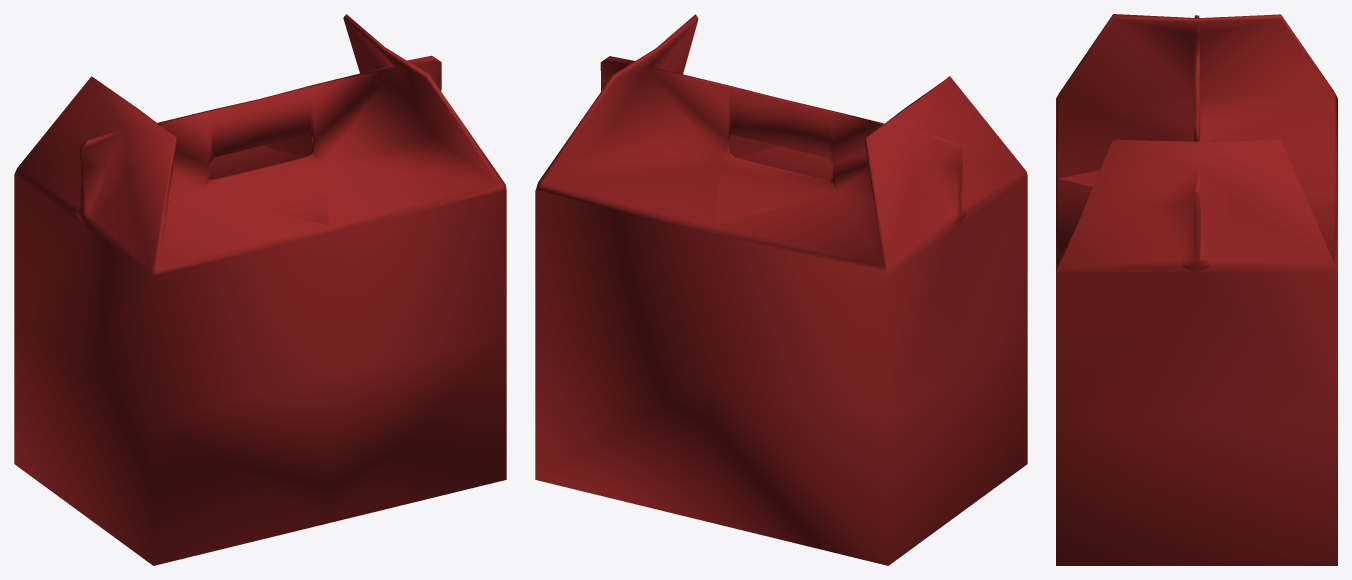
The picture shows the model from 3 angles, left to right: view 1: azimuth 30°, elevation 25°; view 2: azimuth 150°, elevation 25°; view 3: azimuth 270°, elevation 25°; orthographic projection.
Visible parts, largest first — view 1: s4_box2_01_low; view 2: s4_box2_01_low; view 3: s4_box2_01_low.
Part boxes in pixels (left/top/right/bottom): s4_box2_01_low: left=14, top=14, right=506, bottom=565; s4_box2_01_low: left=535, top=14, right=1027, bottom=565; s4_box2_01_low: left=1056, top=14, right=1337, bottom=565.
Bounding box in the file's own units: 0.7581 × 0.7998 × 0.5083.
